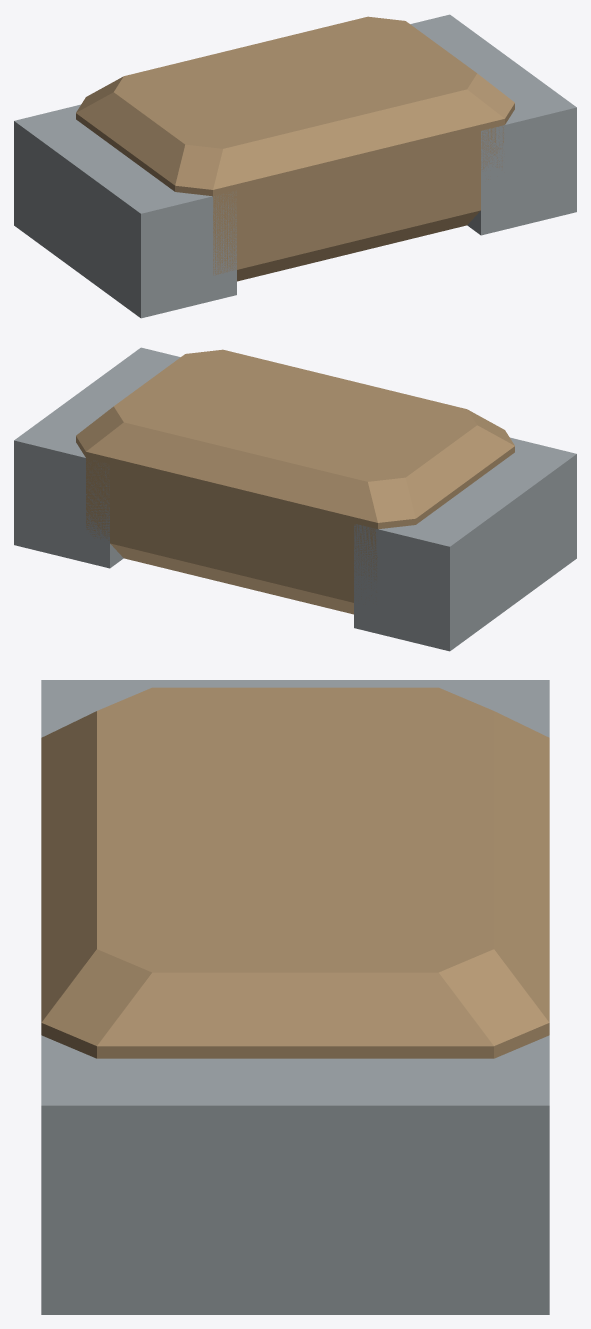
File: L128_SMD_0365.fbx
3 views of the same model, one above another, from view 1: azimuth 30°, elevation 25°; view 2: azimuth 150°, elevation 25°; view 3: azimuth 270°, elevation 25° (orthographic). The views are drawn at different scales.
Visible parts, largest first — view 1: SMD_0365__Ceramic, SMD_0365__Solder; view 2: SMD_0365__Ceramic, SMD_0365__Solder; view 3: SMD_0365__Ceramic, SMD_0365__Solder.
Boxes of the visible parts, x1,y1,x2,y2 form: SMD_0365__Ceramic: [76, 16, 514, 281]; SMD_0365__Solder: [14, 14, 576, 318]; SMD_0365__Ceramic: [76, 349, 514, 614]; SMD_0365__Solder: [14, 347, 576, 651]; SMD_0365__Ceramic: [41, 687, 549, 1058]; SMD_0365__Solder: [41, 680, 549, 1314].
Size of the model in its own units: 2.18 by 0.65 by 1.1.
